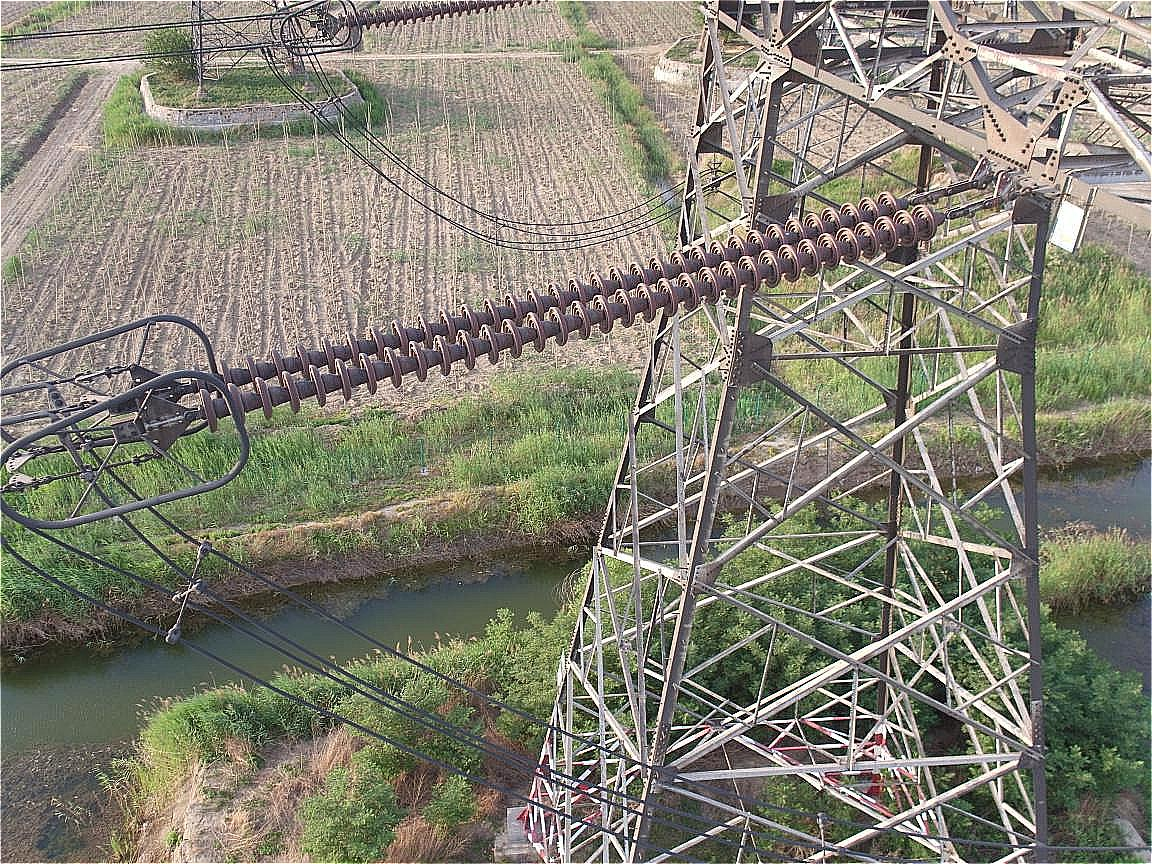insultor1: (191, 181, 944, 422)
